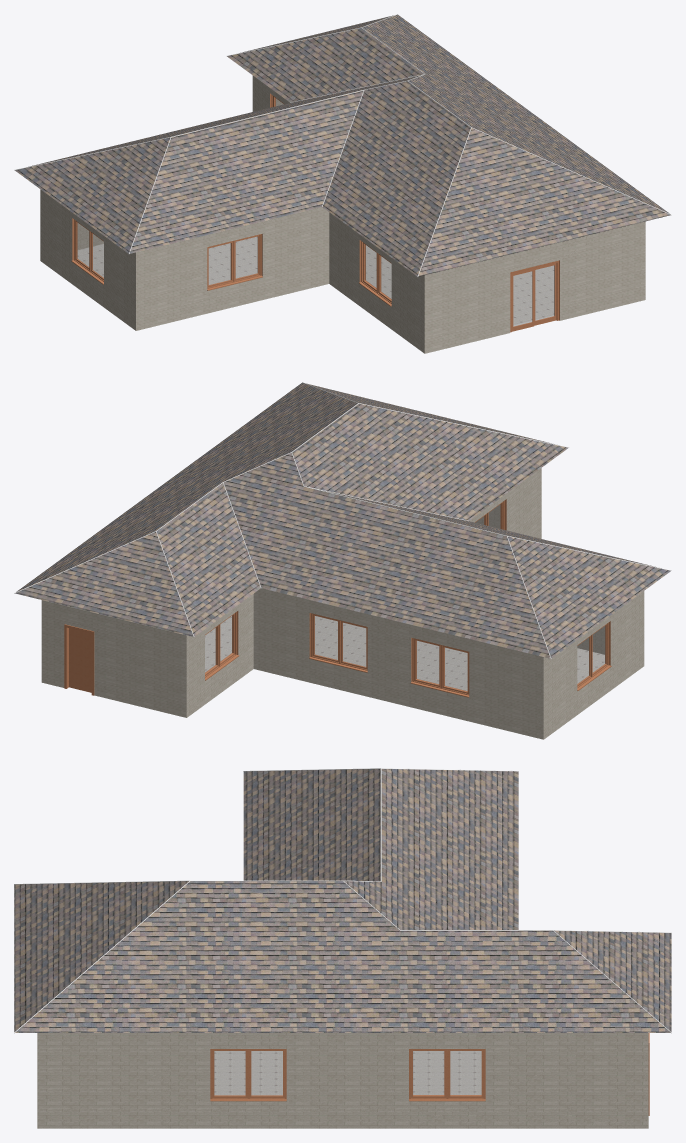
File: telhado39N.glb
The picture shows the model from 3 angles, top to bottom: view 1: azimuth 30°, elevation 25°; view 2: azimuth 150°, elevation 25°; view 3: azimuth 270°, elevation 25°; orthographic projection. The views are drawn at different scales.
Visible parts, largest first — view 1: object 2, object 31, object 30, root, object 32; view 2: object 2, object 31, object 32, object 30, root; view 3: object 2, object 31, root, object 30, object 32.
Boxes of the visible parts, <box> form: object 2: <box>15,14,670,276</box>; object 31: <box>40,75,645,353</box>; object 30: <box>77,99,554,325</box>; root: <box>77,236,554,325</box>; object 32: <box>71,93,559,332</box>; object 2: <box>15,383,670,658</box>; object 31: <box>41,468,644,739</box>; object 32: <box>64,499,611,697</box>; object 30: <box>205,504,605,690</box>; root: <box>205,616,604,690</box>; object 2: <box>14,769,671,1032</box>; object 31: <box>37,1033,648,1128</box>; root: <box>214,1051,481,1095</box>; object 30: <box>214,1051,481,1095</box>; object 32: <box>210,1033,649,1115</box>.
Size of the model in its own units: 16.22 by 5.3 by 17.22.
Materials: 11 (4 with a texture image).
